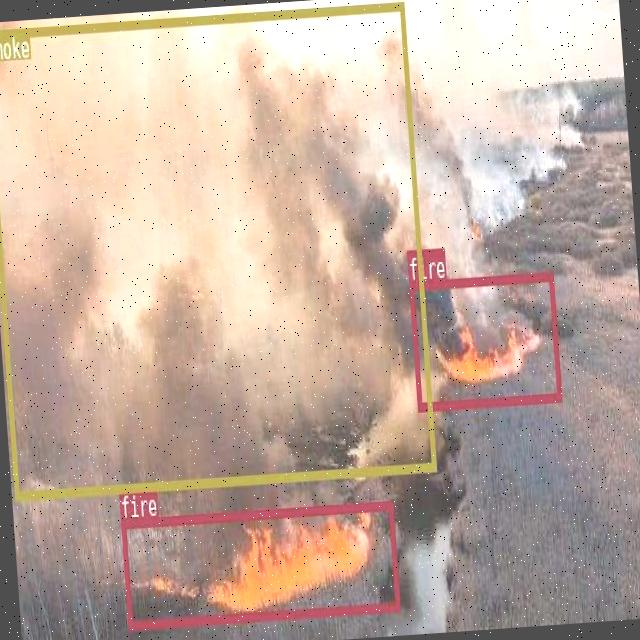fire: (120, 500, 399, 629), (408, 269, 561, 410)
smoke: (0, 0, 434, 498)
